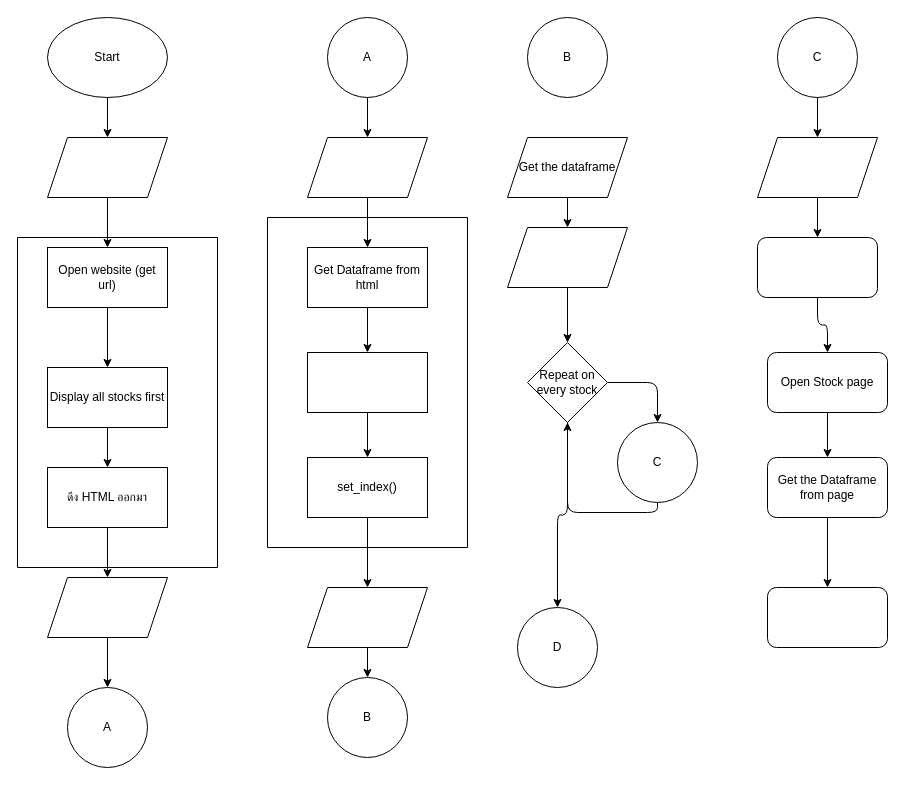
The diagram is 905 pixels wide and 785 high, and some of its shapes have lost their labels. The centre of each missing label's shape, as x and y in pixels:
"Clean & set new column" goes at (x=367, y=382).
"Create new url to navigate to the stock" goes at (x=817, y=267).
"Export Dataframe" goes at (x=367, y=617).
"Get html" goes at (x=367, y=167).
"Link url" goes at (x=107, y=167).
"Save it into dictionary" goes at (x=827, y=617).
"รับชื่อ Stock" goes at (x=817, y=167).
"สร้างที่เก็บข้อมูลของแต่ละหุ้น" goes at (x=567, y=257).
"เอาHTMLออกมาเพื่อไปสกัดข้อมูล" goes at (x=107, y=607).
